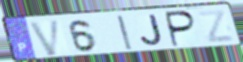6: (68, 19, 99, 53)
I: (115, 14, 134, 51)
J: (139, 13, 165, 48)
P: (165, 10, 198, 49)
V: (27, 18, 62, 58)
Z: (196, 8, 237, 44)
